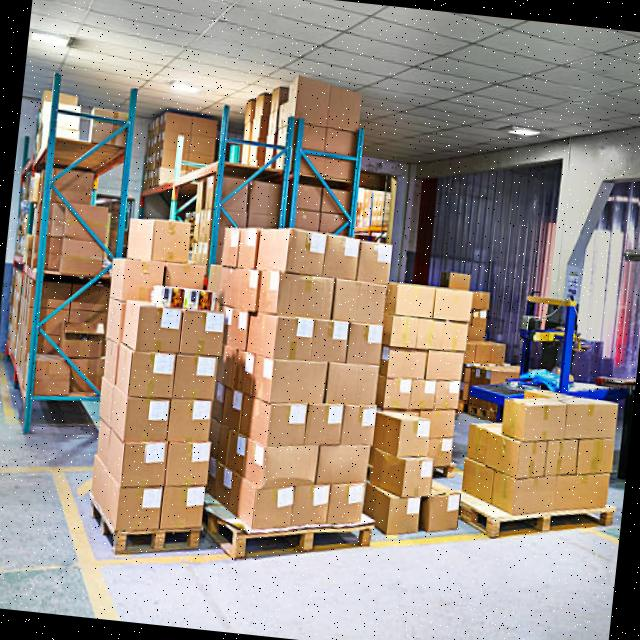Wooden-Pallets: (204, 509, 376, 571), (85, 493, 204, 560), (459, 494, 617, 542)
